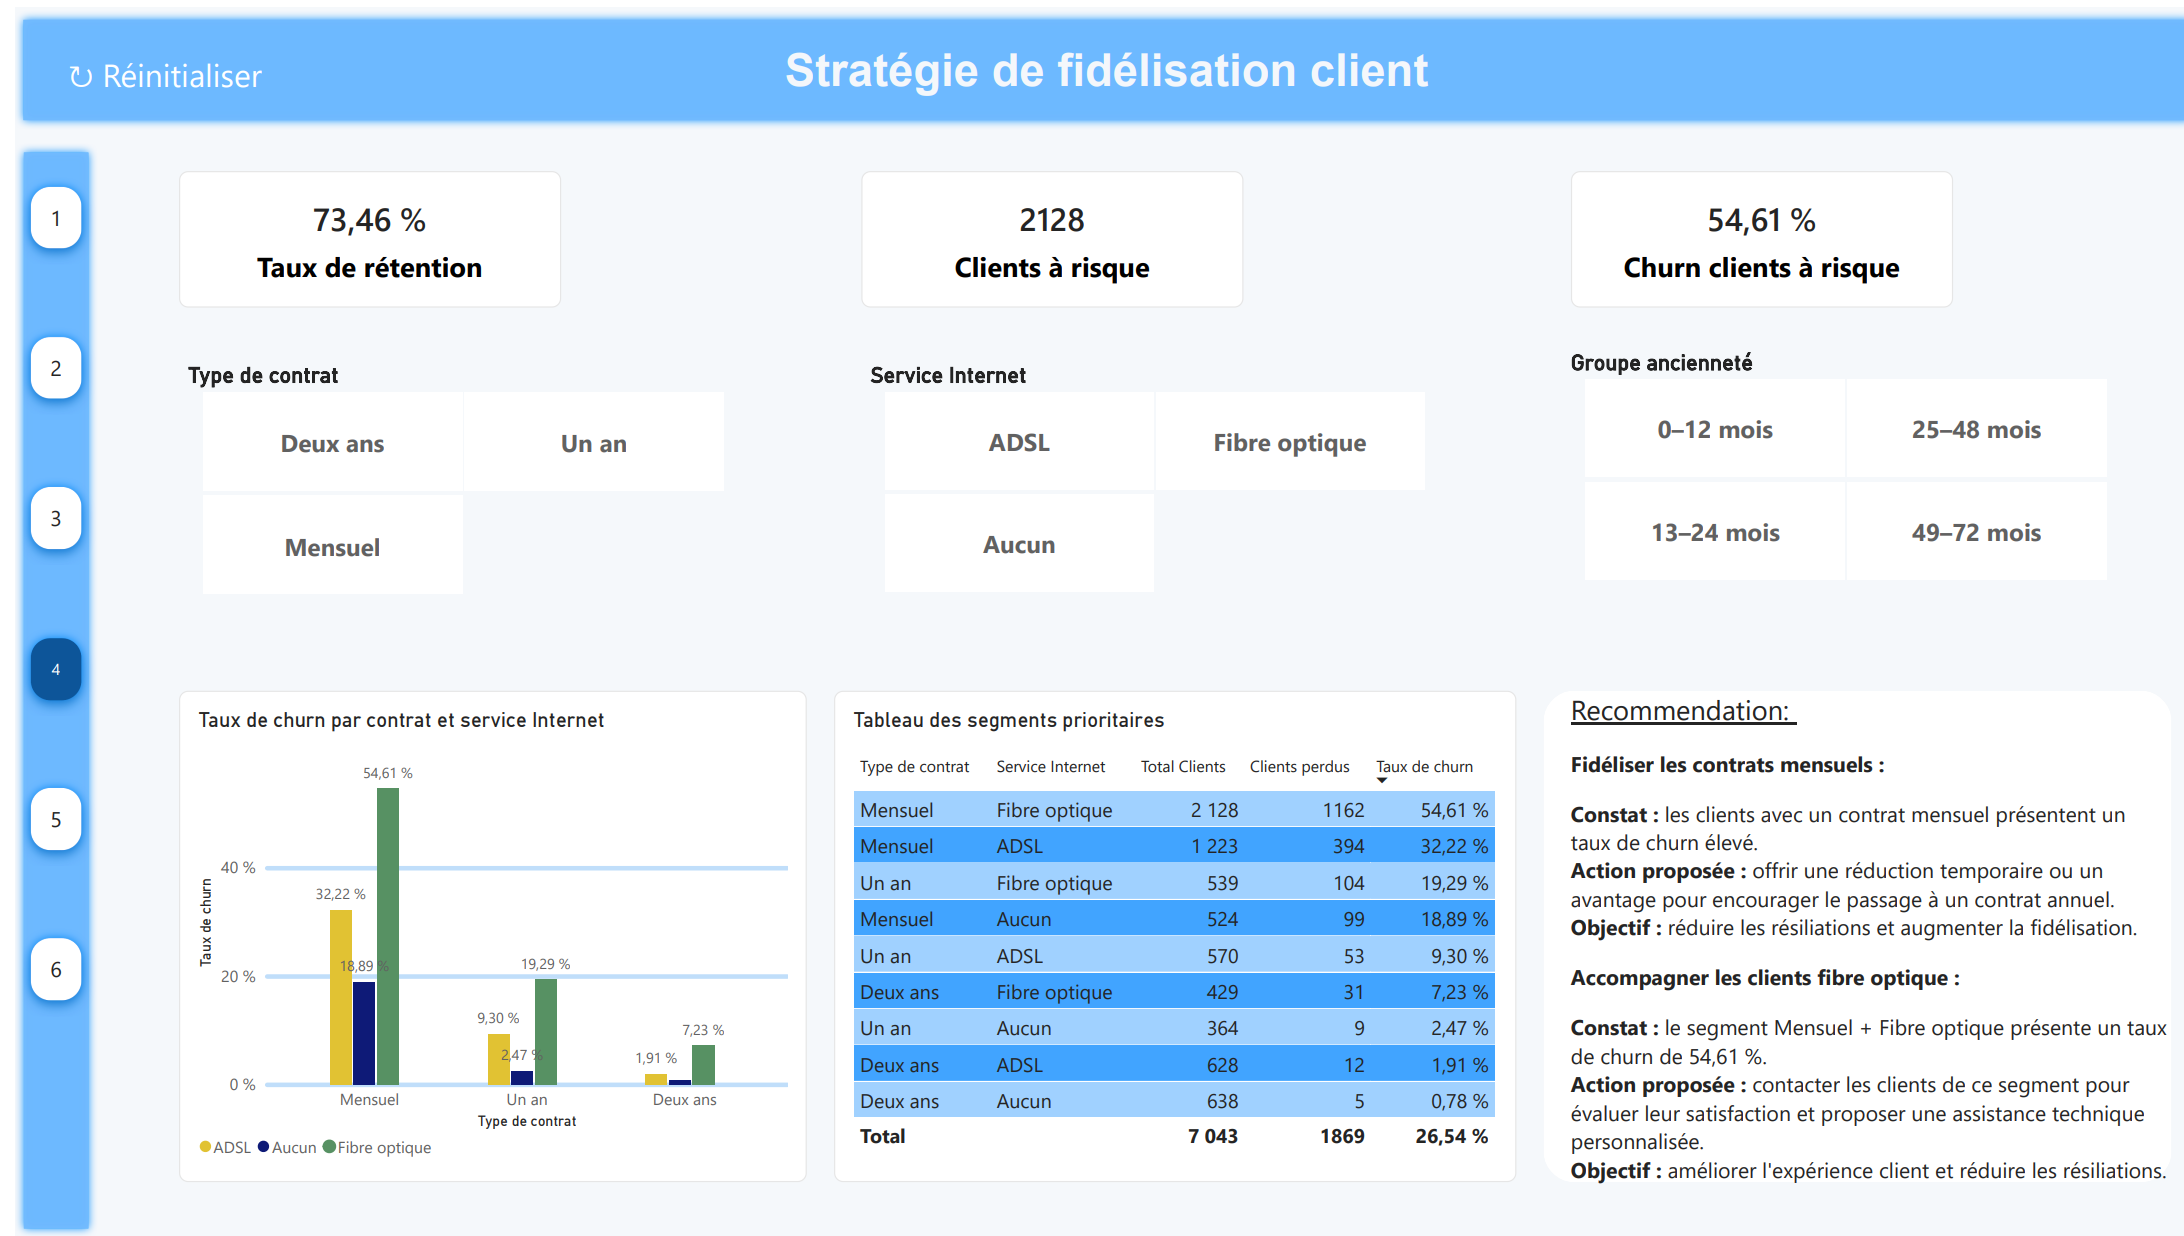

What the dashboard file says about the page in this screenshot:
{"tool":"powerbi","page":{"name":"4","canvas":[1920,1080],"ordinal":3},"visuals":[{"type":"shape","box":[0,3.3,1920,103.3],"z":0},{"type":"shape","box":[0,120,72,960],"z":1000},{"type":"slicer","fields":{"Values":["Clients.Service Internet"]},"box":[744,312,514,204],"z":2000},{"type":"slicer","fields":{"Values":["Clients.Type de contrat"]},"box":[144,312,498,206],"z":3000},{"type":"slicer","fields":{"Values":["Clients.Groupe ancienneté"]},"box":[1360,301.4,498,204],"z":4000},{"type":"card","fields":{"Values":["Mesures.Taux de rétention"]},"box":[144,144,336,120],"z":5000},{"type":"card","fields":{"Values":["Mesures.Clients à risque"]},"box":[744,144,336,120],"z":6000},{"type":"card","fields":{"Values":["Mesures.Churn clients à risque"]},"box":[1368,144,336,120],"z":7000},{"type":"clusteredColumnChart","title":"Taux de churn par contrat et service Internet","fields":{"Category":["Clients.Type de contrat"],"Series":["Clients.Service Internet"],"Y":["Mesures.Taux de churn"]},"box":[144,600,552,432],"z":8000},{"type":"shape","box":[1344,600,552,432],"z":9000},{"type":"tableEx","title":"Tableau des segments prioritaires","fields":{"Values":["Clients.Type de contrat","Clients.Service Internet","Mesures.Total Clients","Mesures.Clients perdus","Mesures.Taux de churn"]},"box":[720,600,600,432],"z":10000},{"type":"textbox","box":[1368,600,528,480],"z":11000},{"type":"pageNavigator","box":[0,144,72,744],"z":11001},{"type":"actionButton","box":[24,24,216,72],"z":11002}]}

Visuals, with their boxes in screenshot pixels (x1, y1, x2, y2), scaled from the page's 1920x1080 canvas onto the 2184x1236 screenshot:
shape: select_region(0, 4, 2183, 122)
shape: select_region(0, 137, 82, 1235)
slicer - Clients.Service Internet: select_region(846, 357, 1431, 591)
slicer - Clients.Type de contrat: select_region(164, 357, 730, 593)
slicer - Clients.Groupe ancienneté: select_region(1547, 345, 2113, 578)
card - Mesures.Taux de rétention: select_region(164, 165, 546, 302)
card - Mesures.Clients à risque: select_region(846, 165, 1228, 302)
card - Mesures.Churn clients à risque: select_region(1556, 165, 1938, 302)
"Taux de churn par contrat et service Internet" clusteredColumnChart: select_region(164, 687, 792, 1181)
shape: select_region(1529, 687, 2157, 1181)
"Tableau des segments prioritaires" tableEx: select_region(819, 687, 1502, 1181)
textbox: select_region(1556, 687, 2157, 1235)
pageNavigator: select_region(0, 165, 82, 1016)
actionButton: select_region(27, 27, 273, 110)
